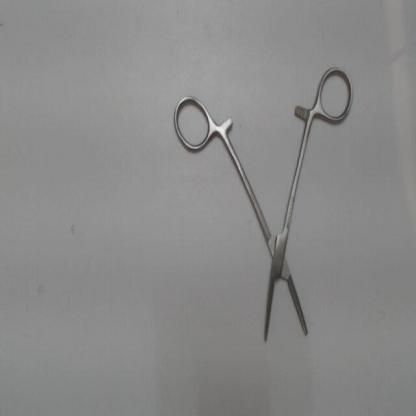Mayo Needle Holder: (170, 63, 358, 357)
